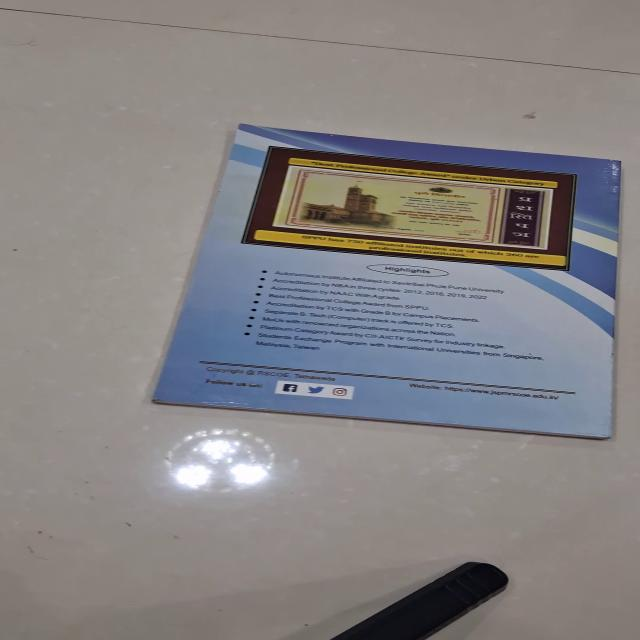paper: (149, 123, 622, 440)
